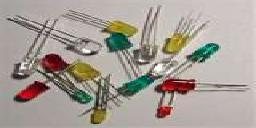LED: (163, 77, 250, 97), (91, 74, 113, 125), (191, 39, 221, 65), (14, 81, 49, 102), (105, 18, 140, 37), (71, 37, 102, 58), (11, 57, 37, 79), (41, 50, 67, 72), (105, 33, 133, 51), (167, 30, 187, 54)
